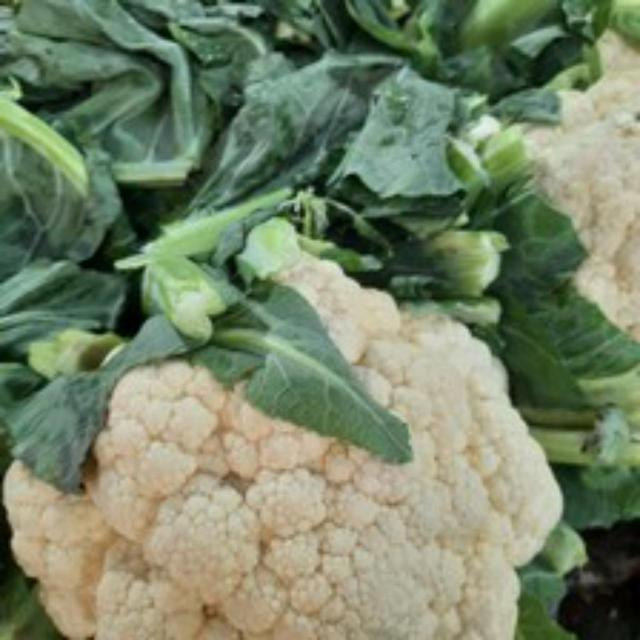cauliflower: (0, 231, 597, 637)
